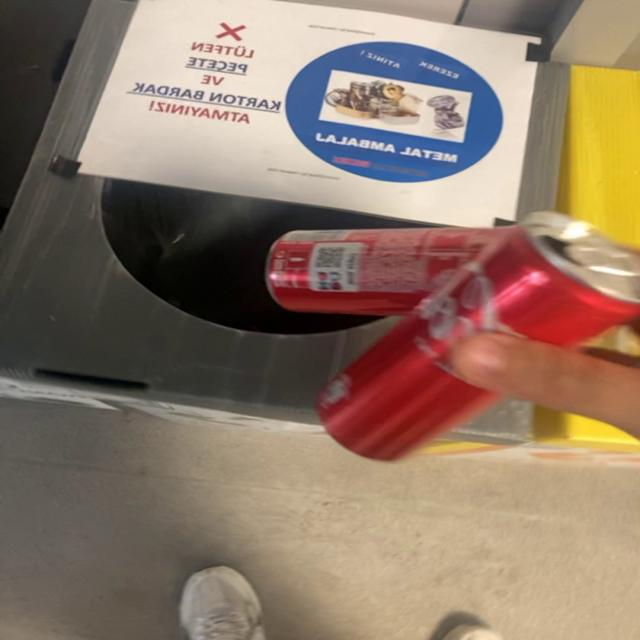bin: (1, 0, 431, 423), (513, 61, 572, 214), (519, 61, 572, 219)
metal: (268, 212, 639, 460)
